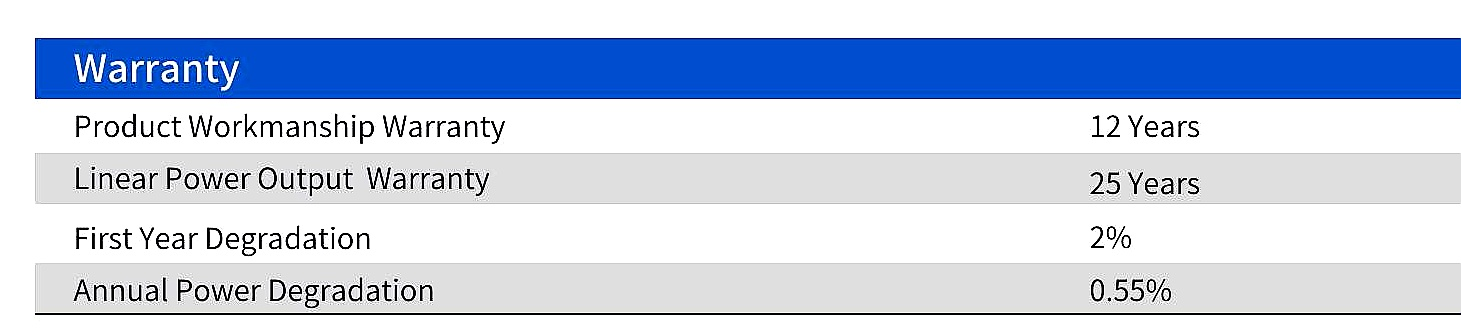table: (22, 31, 1461, 323)
table column: (38, 35, 993, 316), (994, 35, 1454, 315)
table name: (36, 38, 1460, 96)
table row: (29, 38, 1459, 99), (30, 206, 1460, 262), (33, 101, 1461, 155), (32, 264, 1461, 314), (30, 157, 1459, 203)
table row header: (33, 36, 996, 313)
table spanning cell: (35, 40, 1460, 98)
